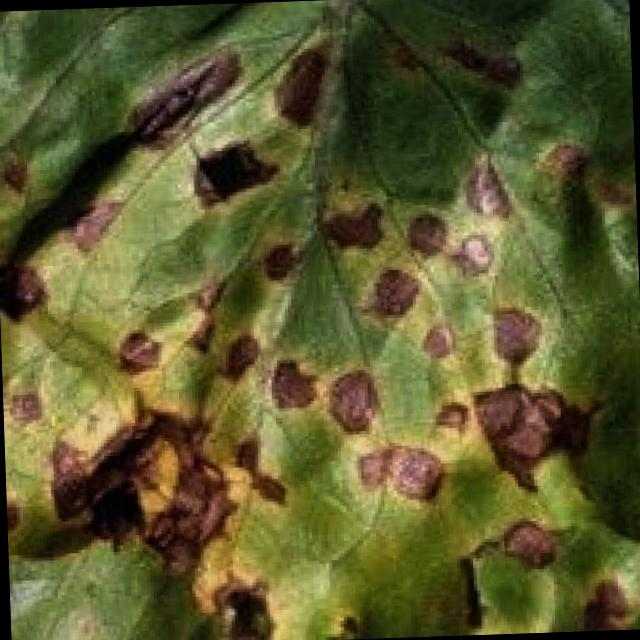Septoria_Blight: (0, 20, 632, 551)
